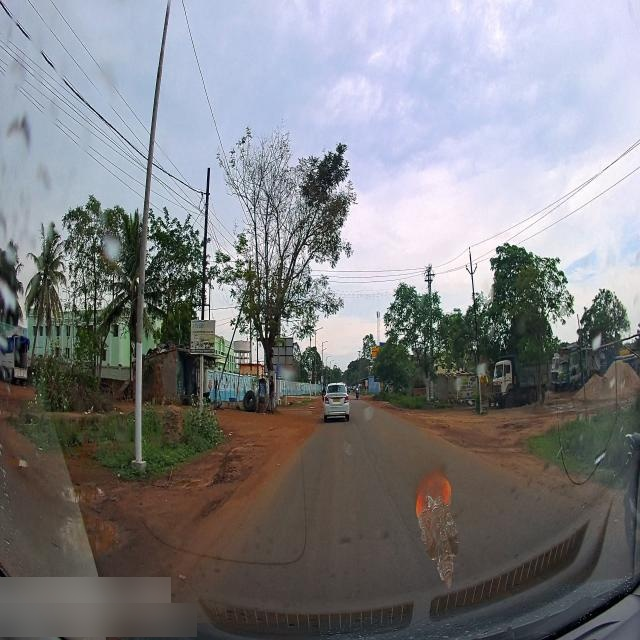pothole: (53, 514, 140, 556), (53, 478, 110, 506)
